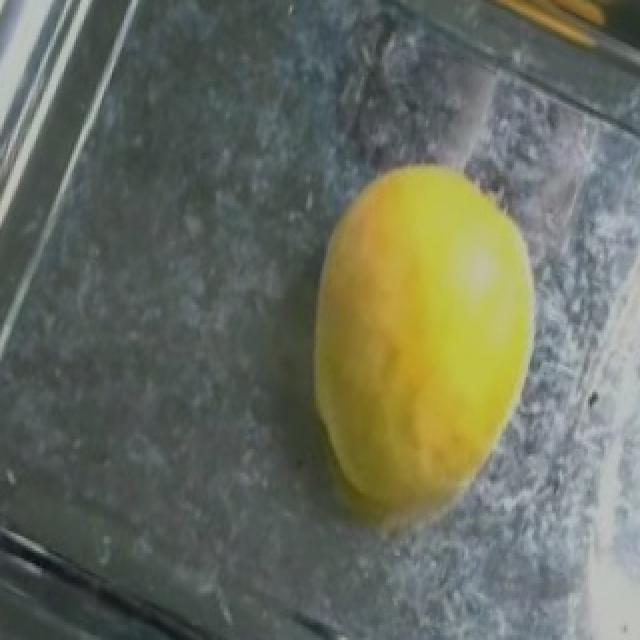fruit: (266, 114, 608, 548), (398, 0, 640, 57)
